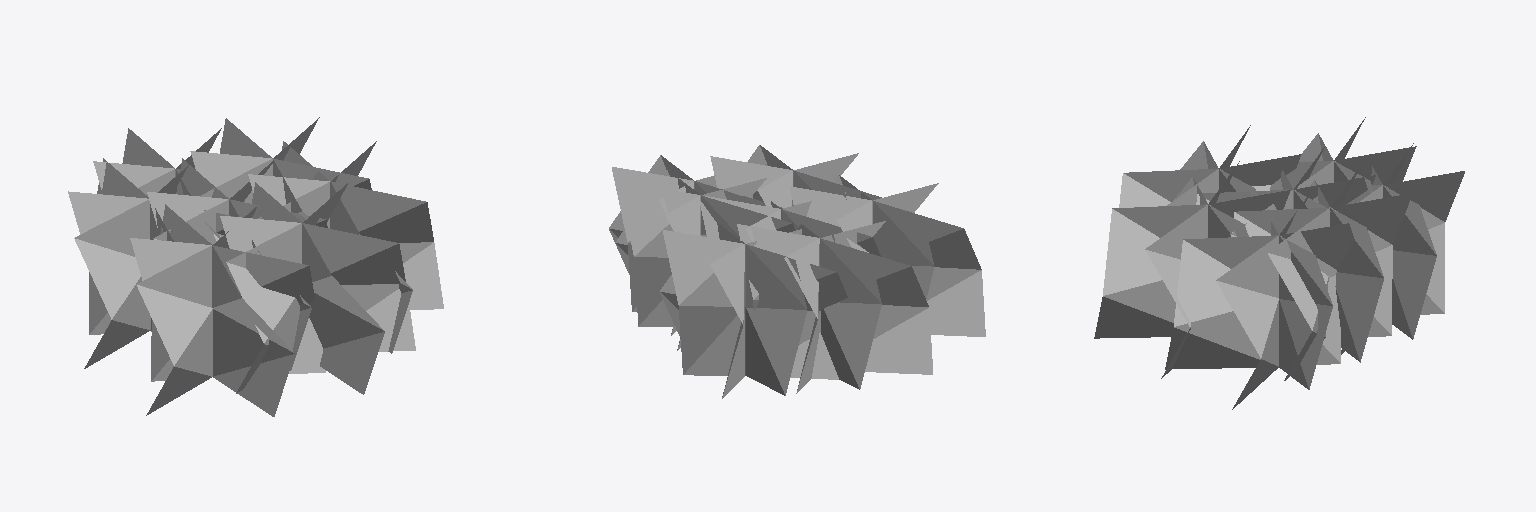
File: grass.obj
3 renders of one model, left to right at view 1: azimuth 30°, elevation 25°; view 2: azimuth 150°, elevation 25°; view 3: azimuth 270°, elevation 25°, orthographic.
Parts seen in each view (by area): view 1: grass; view 2: grass; view 3: grass.
Boxes of the visible parts, box(x1,y1,x2,y2) form: grass: box(68, 117, 443, 416); grass: box(609, 145, 985, 398); grass: box(1094, 117, 1464, 409).
Bounding box in the file's own units: 355 × 162 × 339.